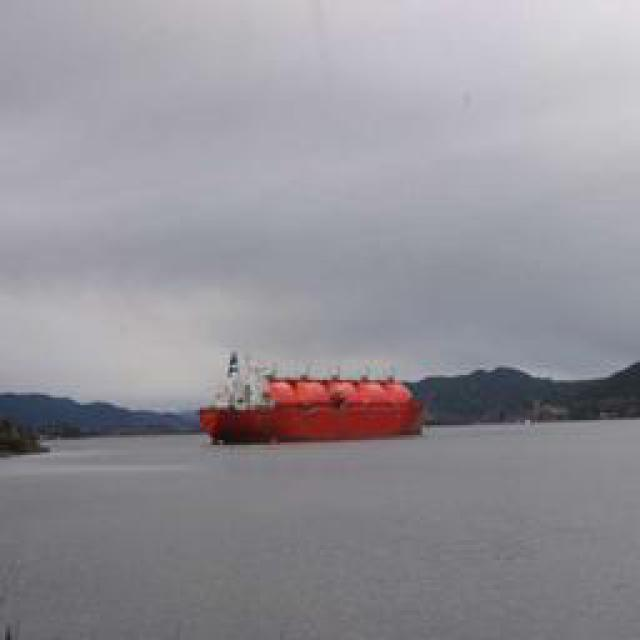Ship: (200, 364, 428, 447)
